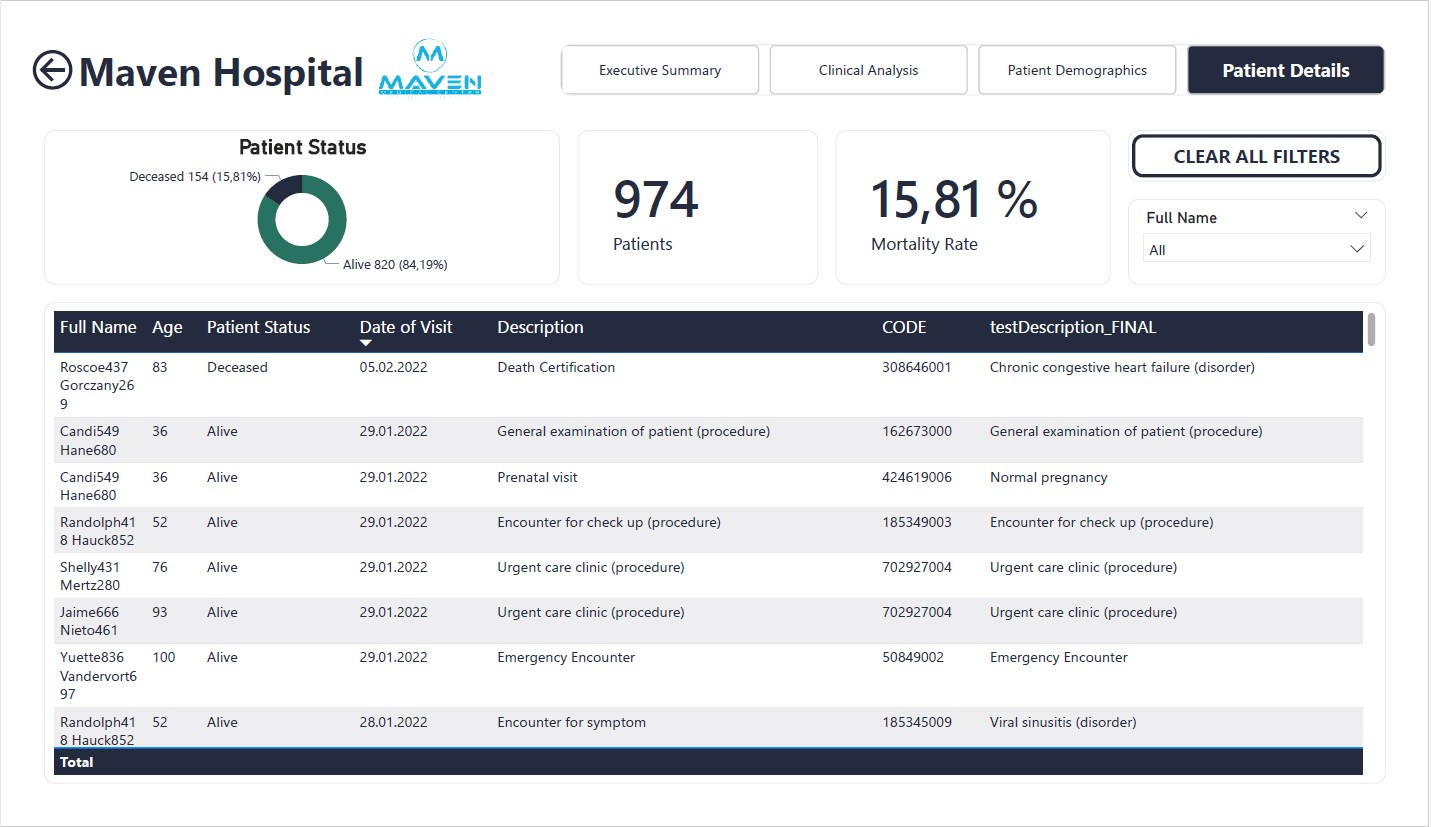

Layout of this report page (visuals, bound fields, positions):
{"tool":"powerbi","page":{"name":"Patient Details","canvas":[1280,720],"ordinal":3},"visuals":[{"type":"pageNavigator","box":[496,16,768,48],"z":0},{"type":"textbox","title":"Maven Hospital","box":[48,16,272,48],"z":1000},{"type":"image","box":[326.9,0,96,80],"z":2000},{"type":"actionButton","box":[0,16,48,48],"z":3000},{"type":"tableEx","fields":{"Values":["DimPatients.FullName","DimPatients.Age","DimPatients.PatientStatus","Visits.StartDate","DimSNOMED.DESCRIPTION","DimSNOMED.CODE","_measures.testDescriptionColumn"]},"box":[16,256,1248,448],"z":4000},{"type":"donutChart","title":"Patient Status","fields":{"Y":["_measures.UniqPatients"],"Category":["DimPatients.PatientStatus"]},"box":[16,96,480,144],"z":5000},{"type":"cardVisual","fields":{"Data":["_measures.%MortalityRate"]},"box":[752,96,256,144],"z":6000},{"type":"slicer","fields":{"Values":["DimPatients.FullName"]},"box":[1024,160,240,80],"z":7000},{"type":"cardVisual","title":"Patients","fields":{"Data":["_measures.UniqPatients"]},"box":[512,96,224,144],"z":8000},{"type":"actionButton","box":[1024,96,240,48],"z":10000}]}

Visuals, with their boxes in screenshot pixels (x1, y1, x2, y2), scaled from the page's 1280x720 canvas onto the 1431x827 screenshot:
pageNavigator: [555,18,1413,74]
"Maven Hospital" textbox: [54,18,358,74]
image: [365,0,473,92]
actionButton: [0,18,54,74]
tableEx - DimPatients.FullName x DimPatients.Age: [18,294,1413,809]
"Patient Status" donutChart: [18,110,555,276]
cardVisual - _measures.%MortalityRate: [841,110,1127,276]
slicer - DimPatients.FullName: [1145,184,1413,276]
"Patients" cardVisual: [572,110,823,276]
actionButton: [1145,110,1413,165]
